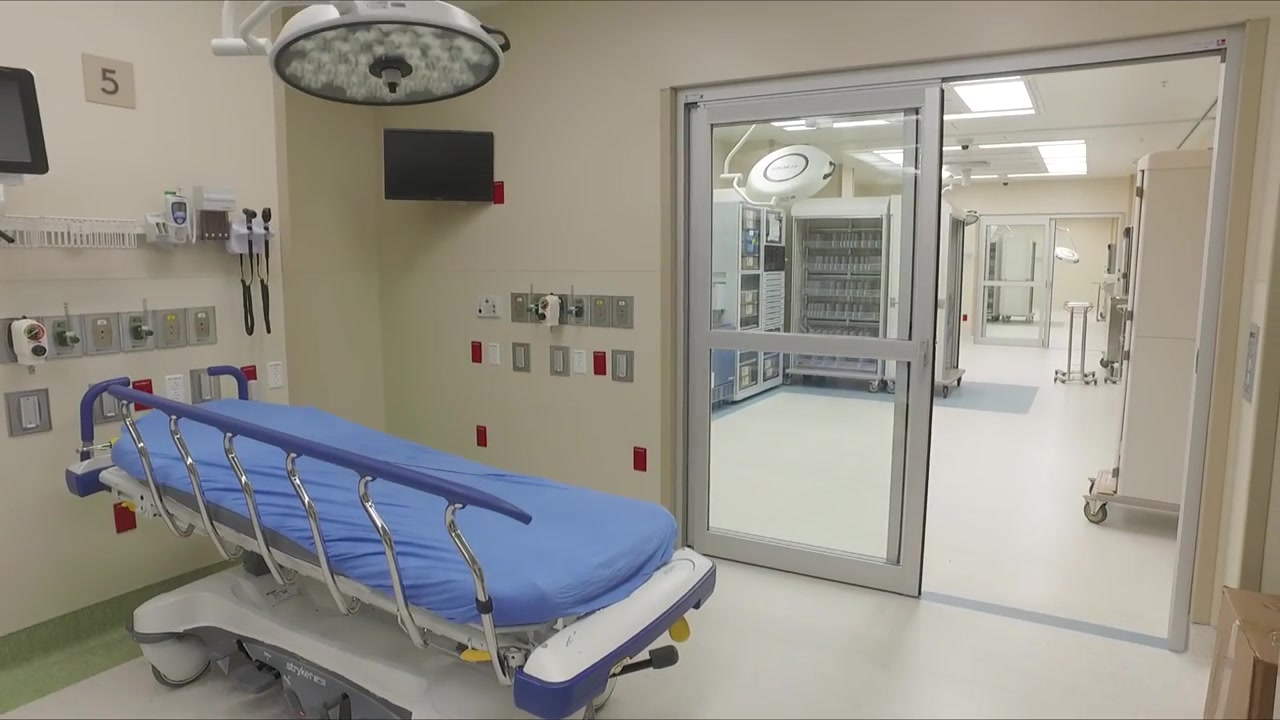TV: (382, 127, 496, 203)
bedrail: (107, 383, 534, 688)
bedside_monitor: (1, 65, 50, 175)
cabinet: (789, 196, 898, 389), (710, 197, 785, 399)
door_handle: (916, 347, 927, 375)
hospital_bed: (65, 368, 719, 720)
surgical_light: (268, 1, 505, 106), (744, 144, 836, 209), (1055, 246, 1079, 264), (965, 209, 979, 226)
utility_cart: (1053, 300, 1097, 386)
